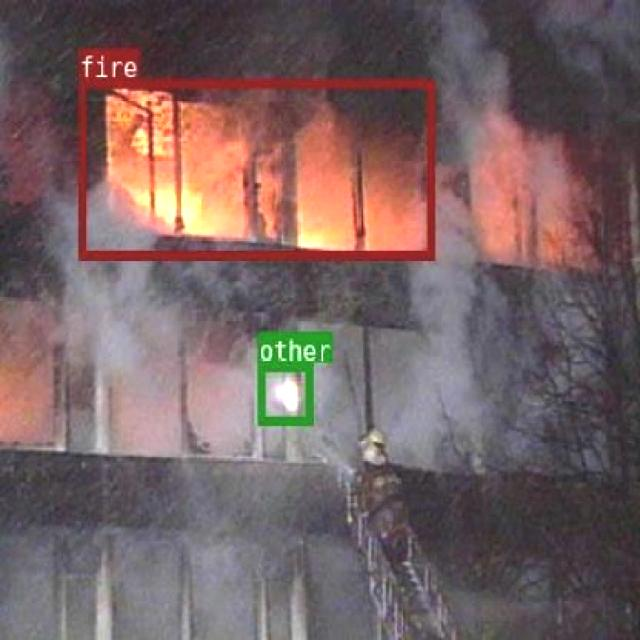fire: (77, 78, 432, 258)
